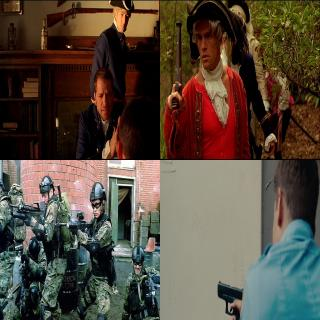gun: (44, 1, 158, 34), (167, 18, 189, 116), (215, 276, 243, 316), (56, 212, 93, 242), (8, 198, 42, 222)
